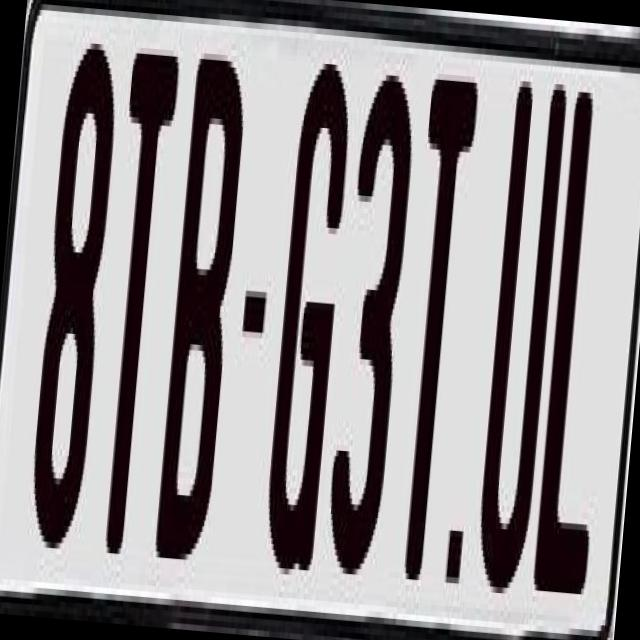3: (324, 67, 418, 576)
8: (20, 29, 124, 562)
B: (149, 41, 247, 562)
G: (258, 56, 356, 605)
L: (526, 90, 625, 618)
T: (384, 67, 484, 606), (87, 52, 180, 566)
U: (472, 75, 570, 612)
